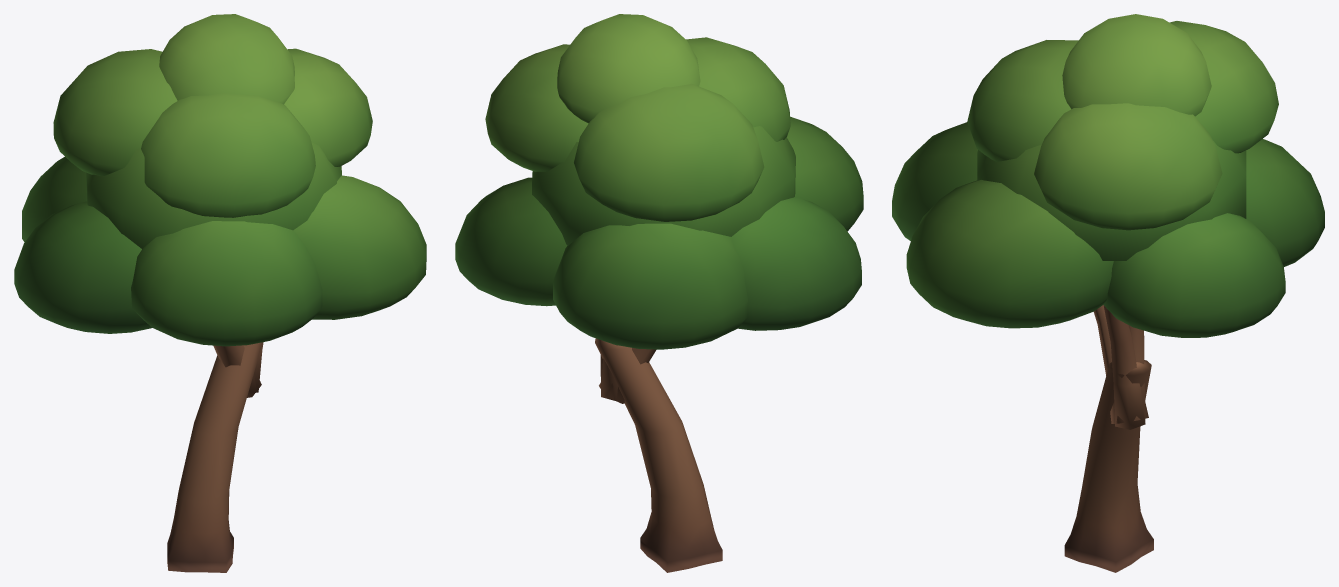
Rendered from oak_2.glb.
The picture shows the model from 3 angles, left to right: view 1: azimuth 30°, elevation 25°; view 2: azimuth 150°, elevation 25°; view 3: azimuth 270°, elevation 25°; orthographic projection. The views are drawn at different scales.
Visible parts, largest first — view 1: oak_2; view 2: oak_2; view 3: oak_2.
Boxes of the visible parts, x1,y1,x2,y2 form: oak_2: [14, 14, 426, 572]; oak_2: [455, 14, 863, 572]; oak_2: [892, 14, 1324, 572].
Bounding box in the file's own units: 5.18 × 7.62 × 5.41.
